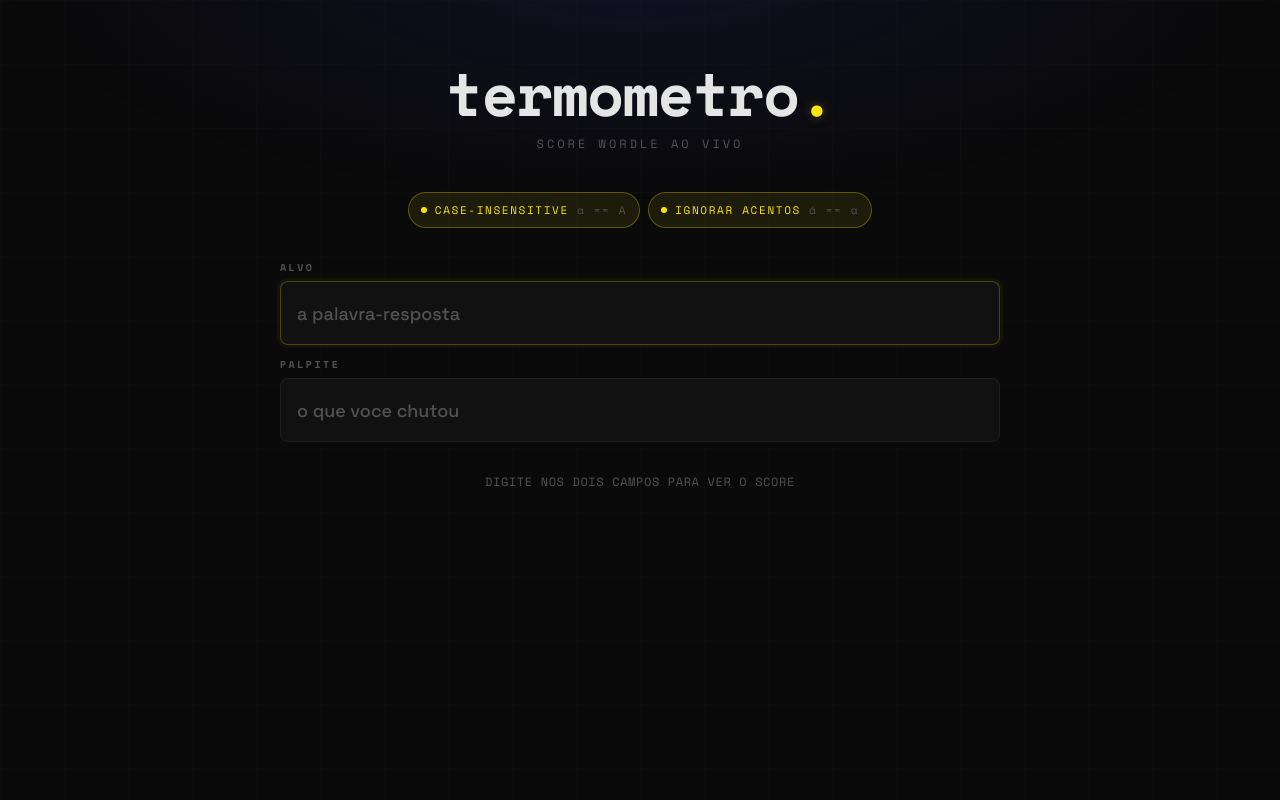
Test case: App › scores reactively as the user types in both fields
Type "casa" into the field labelled "Palpite".
click(640, 410); type("casa")  # box [280, 378, 1000, 442]
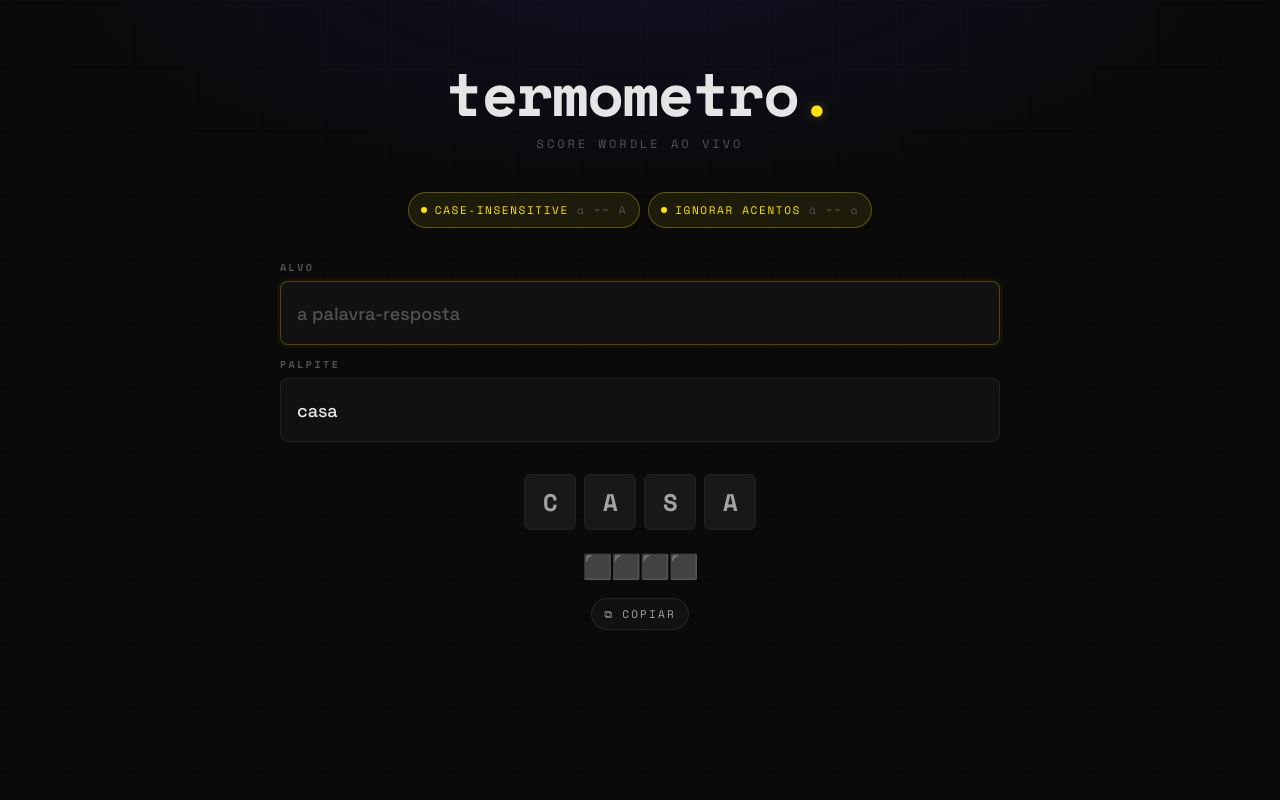
Type "casa" into the field labelled "Alvo".
click(640, 313); type("casa")  # box [280, 281, 1000, 345]
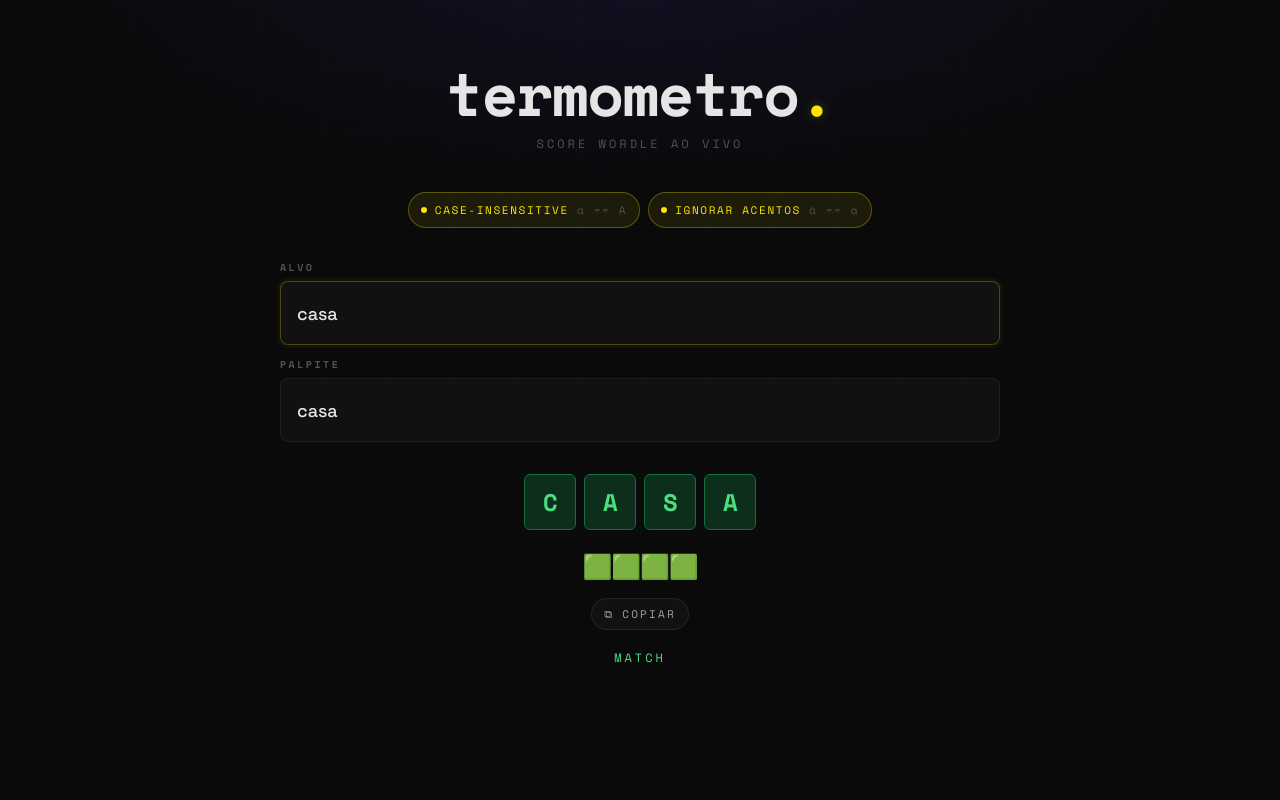
Check: the text "match" is shown, box [614, 650, 666, 666]
